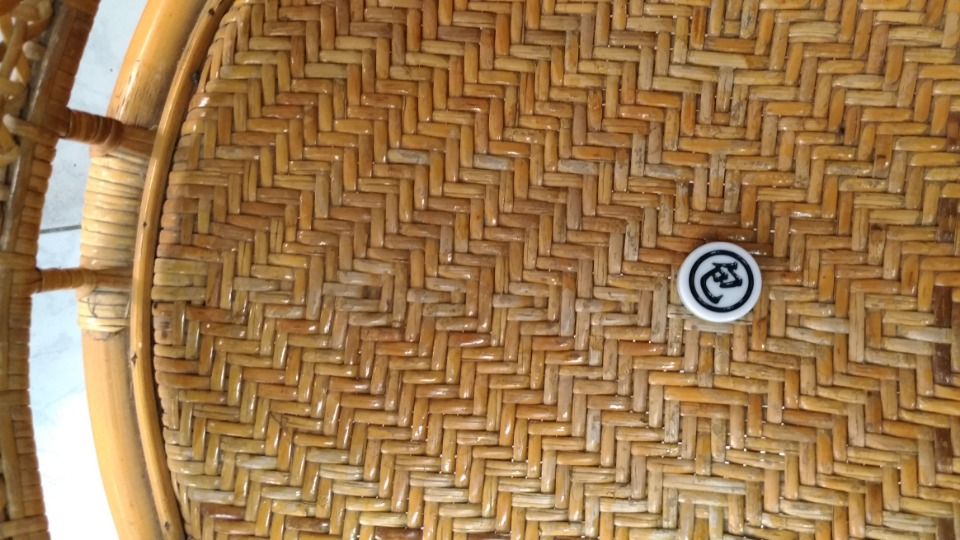b-cannon: (652, 228, 799, 338)
